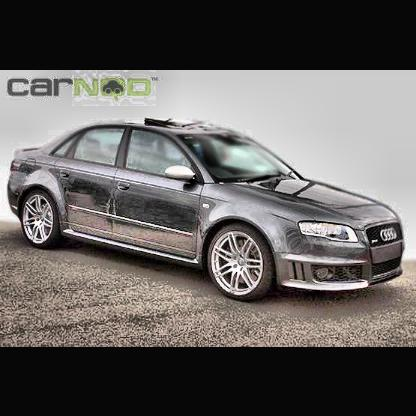Audi S4 Sedan 2007: (7, 117, 409, 305)
